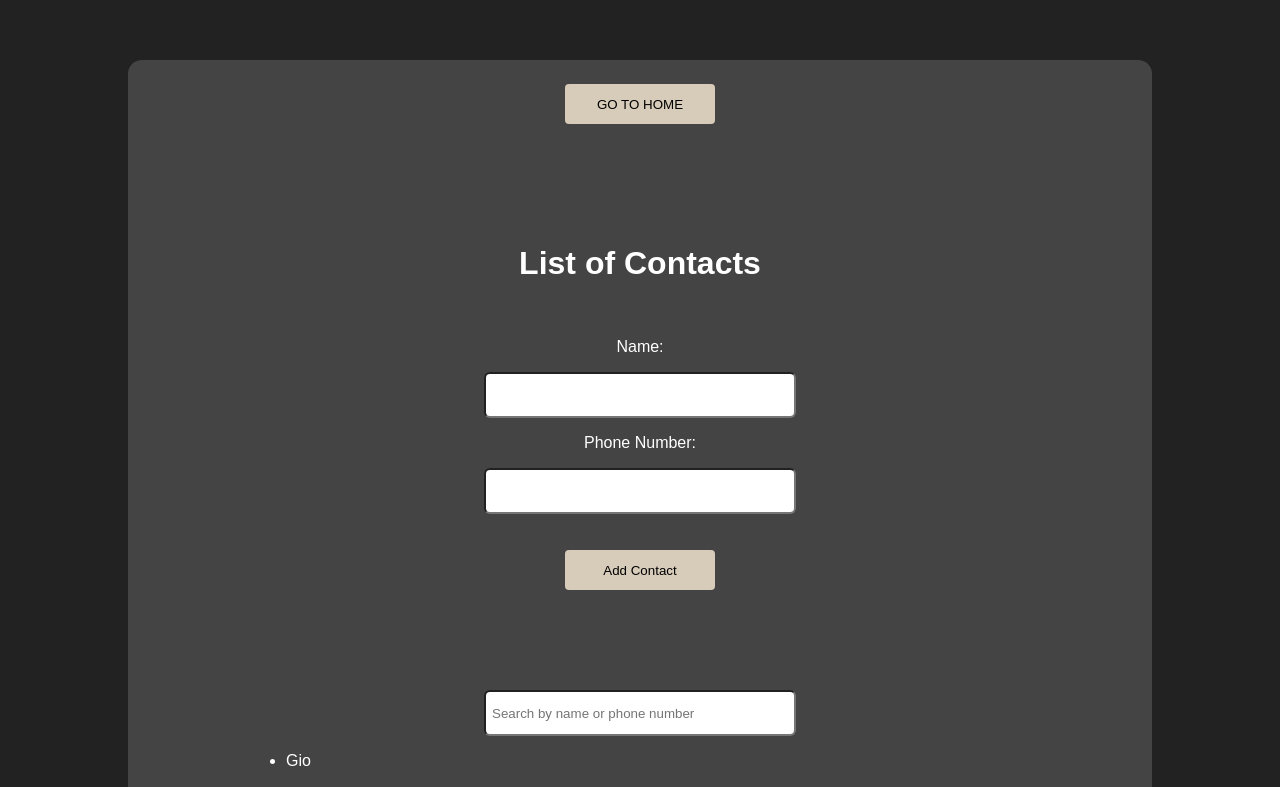
Test case: ContactPage › should display error message and not display new contact to the list of contacts after failed to add new contact to the server
Step 1. Type "React" into the field labelled "Name:" → [640, 395], box [484, 372, 796, 418]
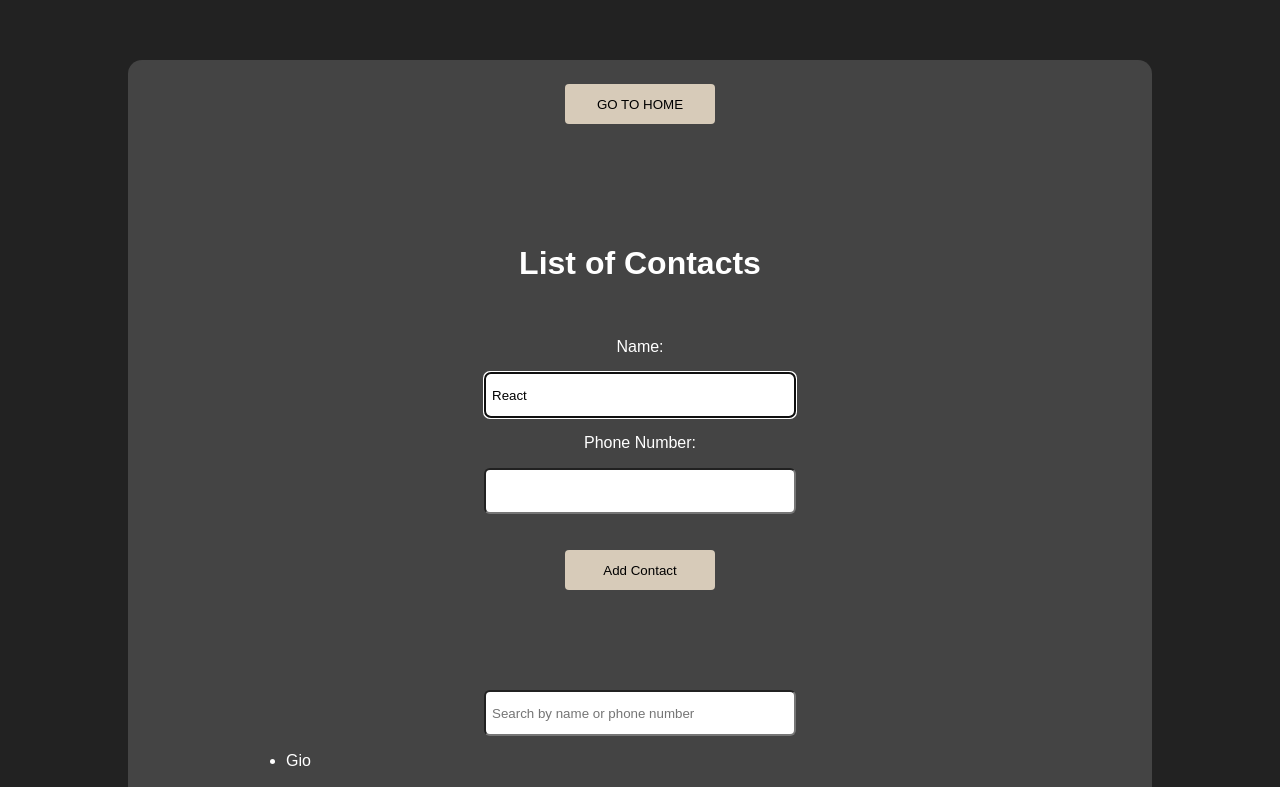
Step 2. Type "08123456789" into the field labelled "Phone Number:" → [640, 491], box [484, 468, 796, 514]
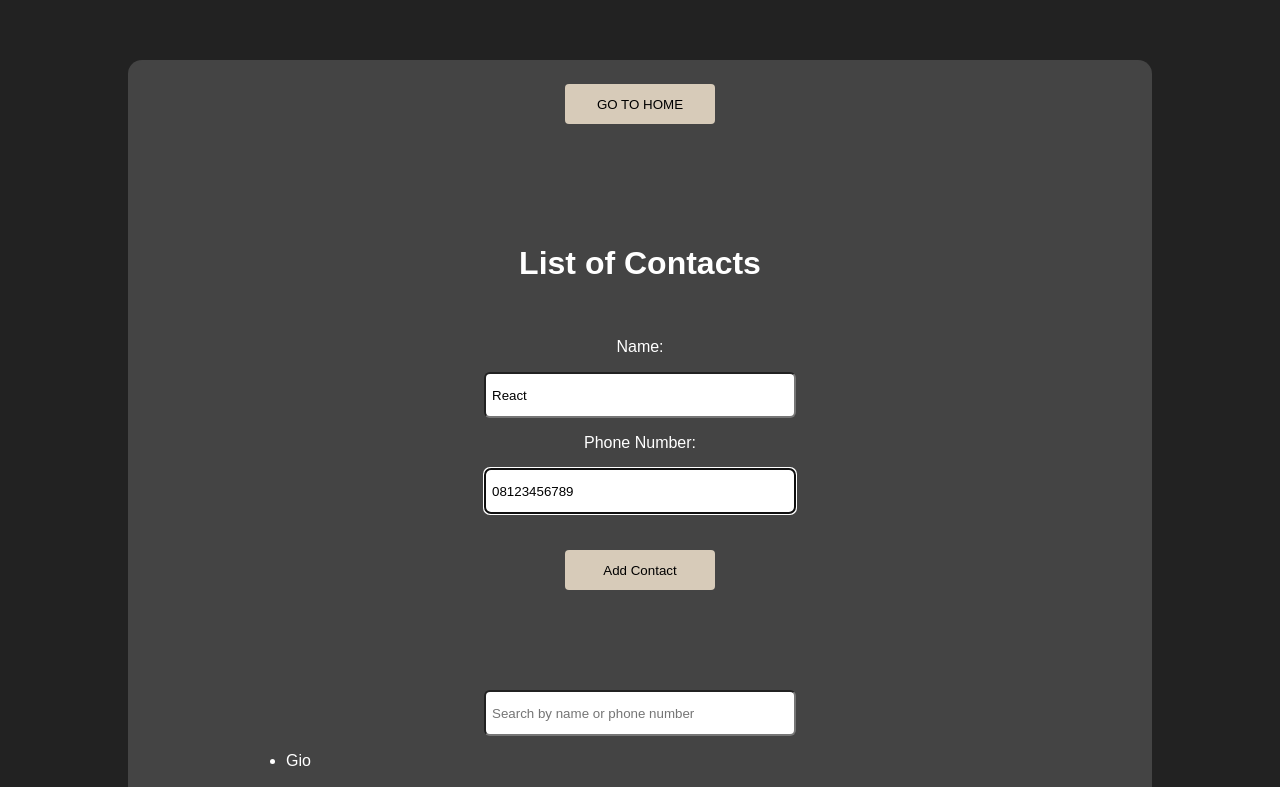
Step 3. Click the button "Add Contact" → [640, 570], box [565, 550, 715, 590]
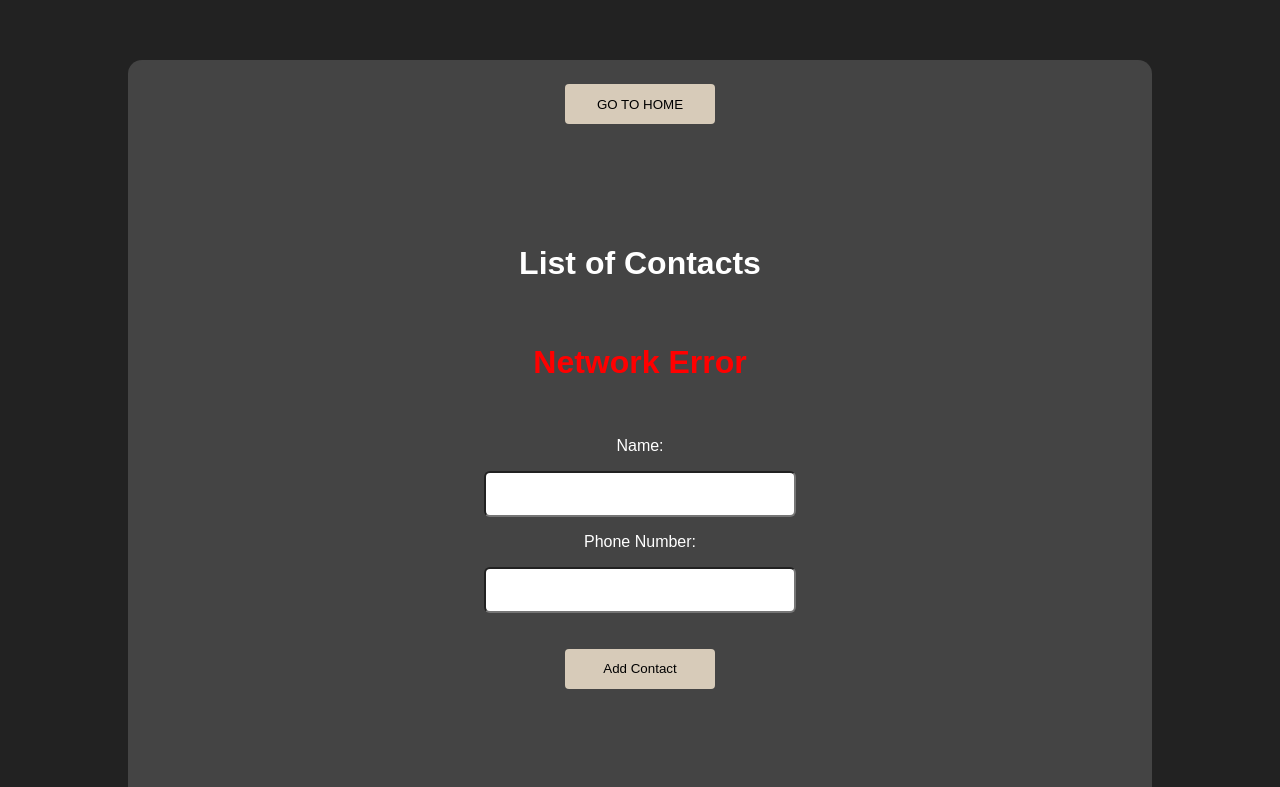
Check: the heading "Network Error" is shown, box [533, 344, 747, 381]
